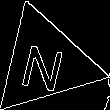N_N: (19, 33, 71, 92)
